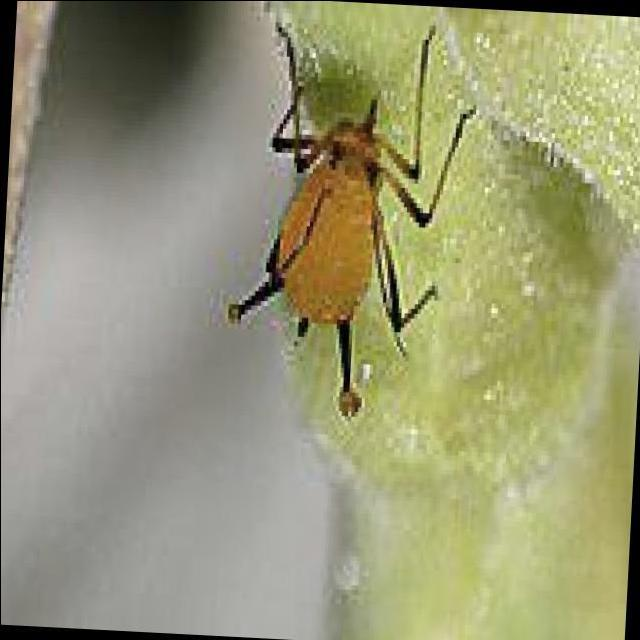aphid: (196, 28, 479, 431)
